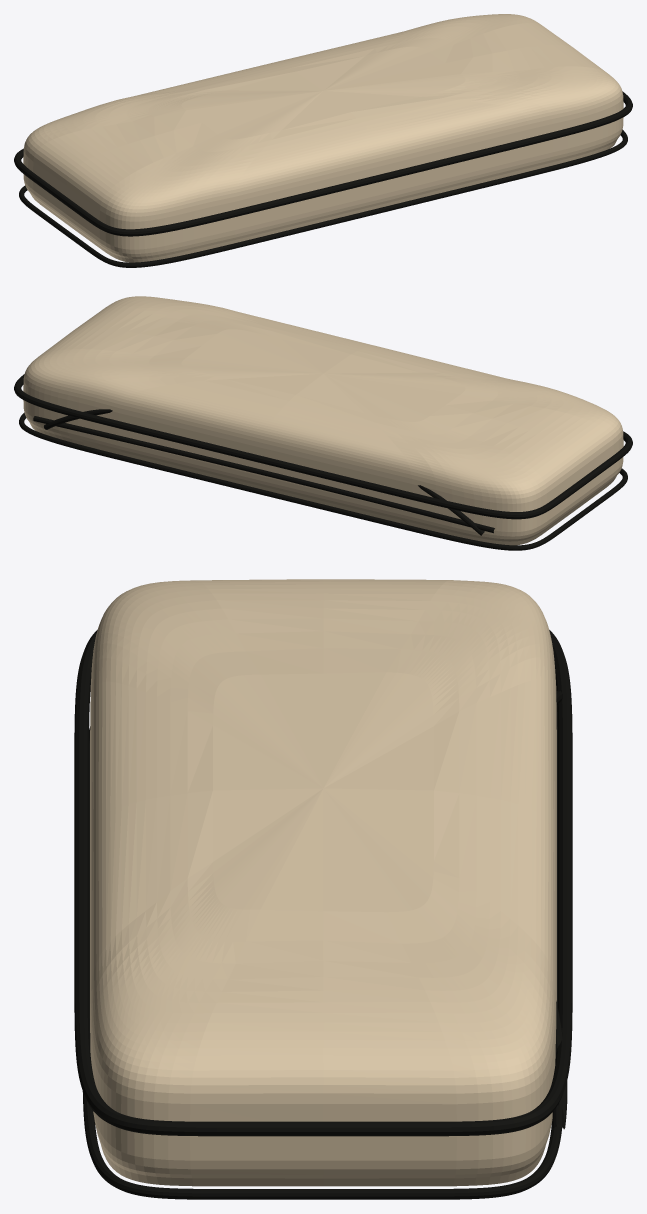
The model's file is biosleep-pillow.glb.
3 renders of one model, top to bottom at view 1: azimuth 30°, elevation 25°; view 2: azimuth 150°, elevation 25°; view 3: azimuth 270°, elevation 25°, orthographic. The views are drawn at different scales.
Visible parts, largest first — view 1: single soft low rectangular pillow body, continuous black upper perimeter piping, continuous black lower perimeter piping; view 2: single soft low rectangular pillow body, continuous black upper perimeter piping, continuous black lower perimeter piping, black front horizontal seam piping; view 3: single soft low rectangular pillow body, continuous black upper perimeter piping, continuous black lower perimeter piping.
Boxes of the visible parts, box(x1,y1,x2,y2) form: single soft low rectangular pillow body: box(23, 14, 623, 262); continuous black upper perimeter piping: box(14, 91, 632, 236); continuous black lower perimeter piping: box(19, 129, 627, 267); single soft low rectangular pillow body: box(23, 296, 623, 545); continuous black upper perimeter piping: box(14, 374, 632, 519); continuous black lower perimeter piping: box(19, 412, 627, 550); black front horizontal seam piping: box(33, 416, 494, 533); single soft low rectangular pillow body: box(90, 579, 556, 1186); continuous black upper perimeter piping: box(74, 630, 572, 1136); continuous black lower perimeter piping: box(82, 726, 562, 1199).
Size of the model in its own units: 5.89 by 0.8729 by 2.39.
